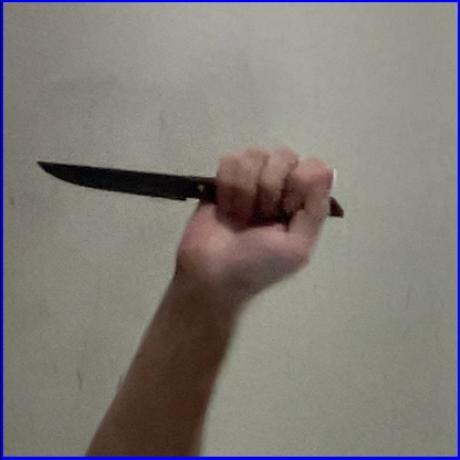1: (84, 148, 334, 454)
weapon: (29, 154, 346, 220)
